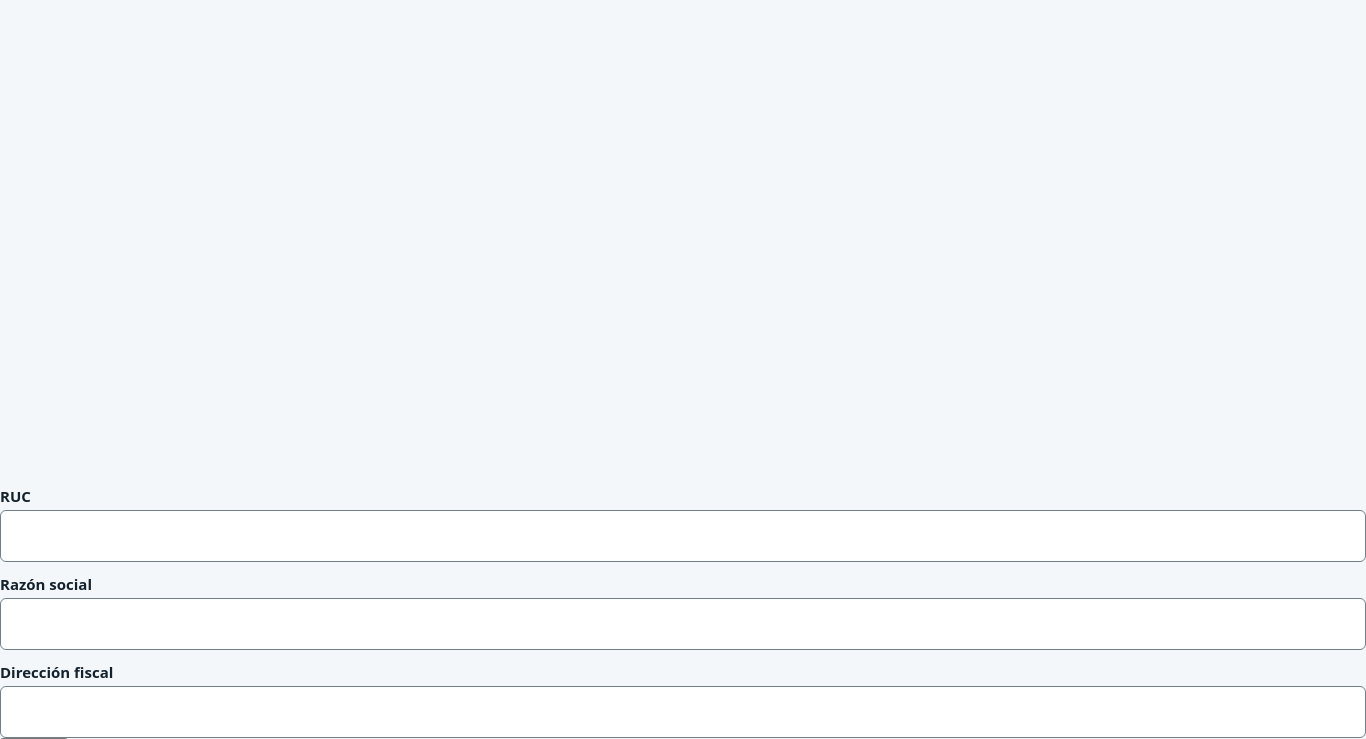
RUC con aviso: «Emitir igual» (criterio 140) › un RUC activo pero no habido también lleva aviso
(page scrolled)
Type "20100070970" into the field labelled "RUC".
click(683, 536); type("20100070970")  # box [1, 512, 1365, 560]
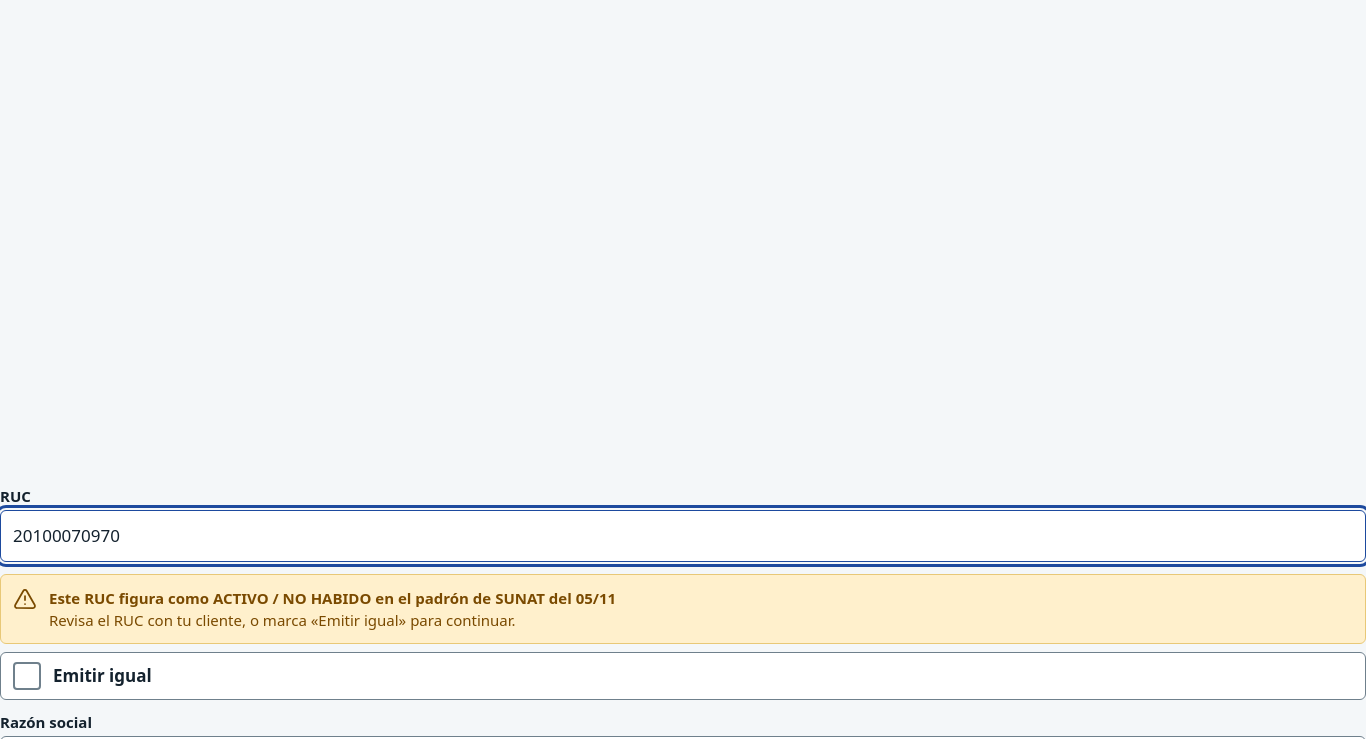
Check: the text "Este RUC figura como ACTIVO / NO HABIDO en el padrón de SUNAT del 05/11" is shown, box [49, 588, 616, 608]
